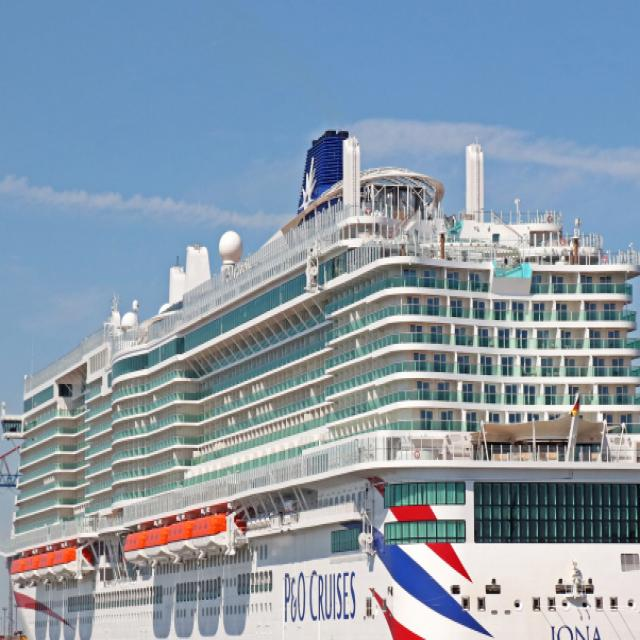cruises: (1, 120, 640, 640)
